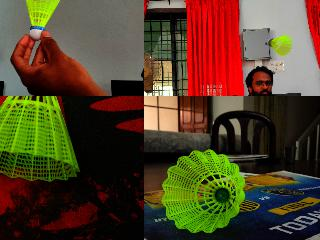shuttlecock: (0, 96, 80, 182), (162, 149, 244, 232), (23, 0, 61, 40), (266, 36, 292, 54)
